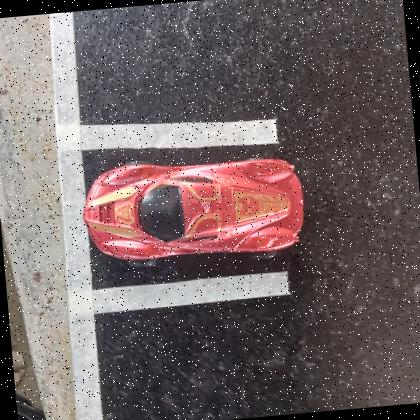Car: (82, 156, 304, 260)
